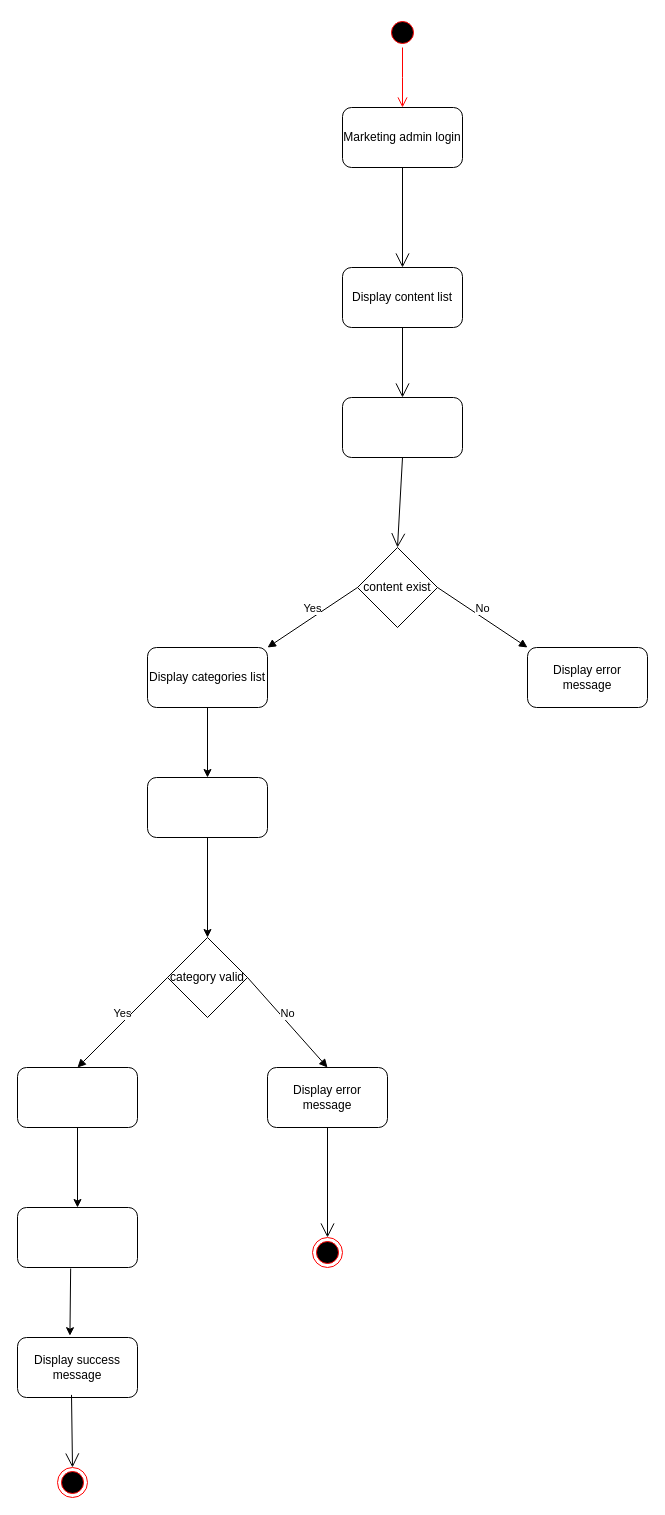
The diagram is 665 pixels wide and 1515 high, and some of its shapes have lost their labels. Each missing label, with the box of its shape:
Assign content to category: (16, 1066, 138, 1128)
Select category: (146, 776, 268, 838)
Select content item: (342, 396, 462, 458)
Update database: (16, 1206, 138, 1268)
